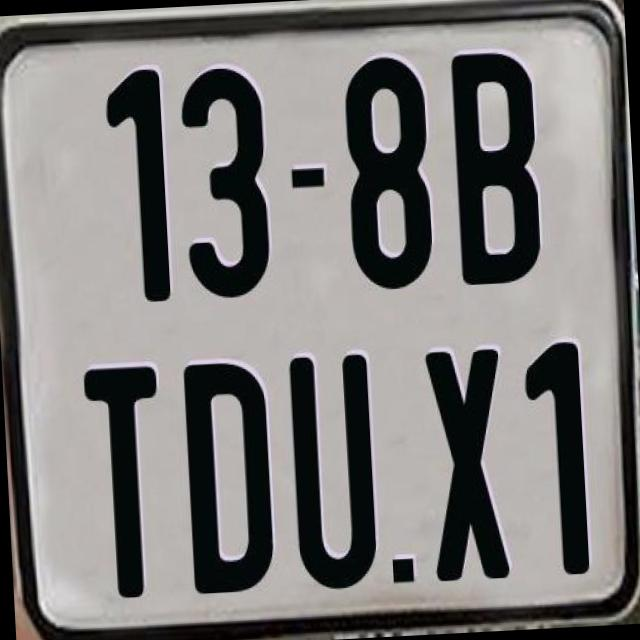1: (103, 68, 174, 306), (521, 340, 591, 575)
3: (178, 63, 272, 304)
8: (339, 51, 434, 286)
B: (447, 49, 542, 284)
D: (183, 358, 280, 594)
T: (80, 362, 164, 598)
U: (284, 354, 374, 592)
X: (422, 346, 512, 580)
